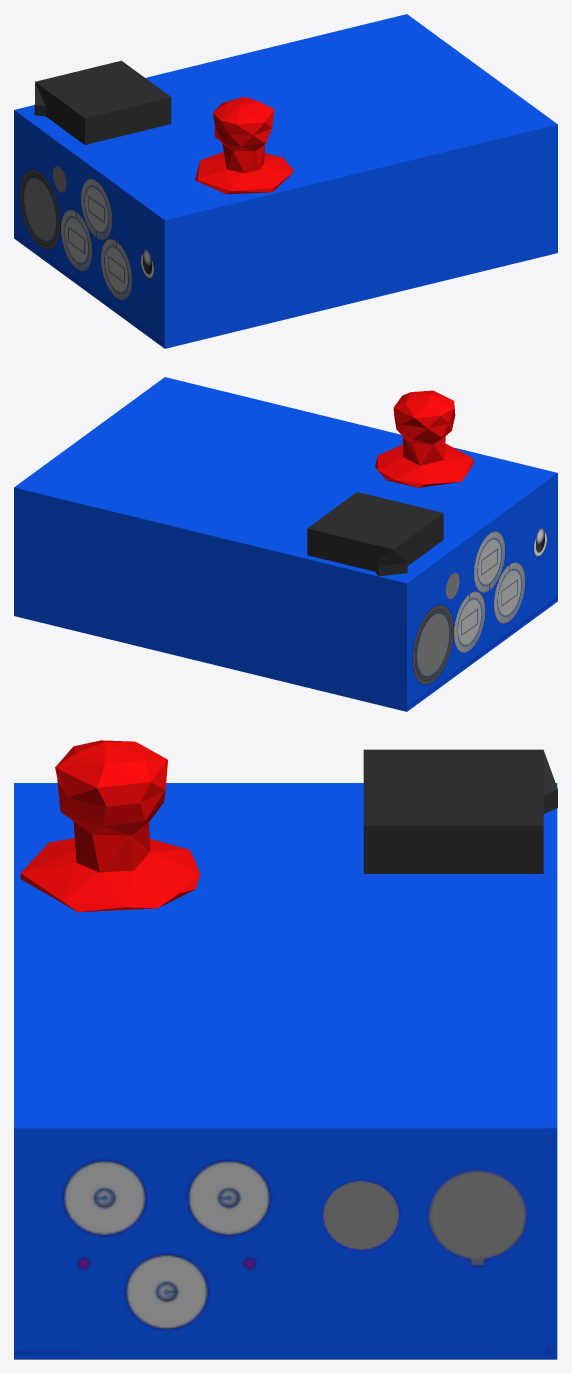
Rendered from top_box.dae.
3 renders of one model, top to bottom at view 1: azimuth 30°, elevation 25°; view 2: azimuth 150°, elevation 25°; view 3: azimuth 270°, elevation 25°, orthographic. The views are drawn at different scales.
Visible parts, largest first — view 1: Top_Box; view 2: Top_Box; view 3: Top_Box.
Part boxes in pixels (x1,y1,x2,y2): Top_Box: (14,14,557,348); Top_Box: (14,377,557,711); Top_Box: (14,740,557,1359).
Size of the model in its own units: 0.2 by 0.1331 by 0.0976.
Materials: 1 (1 with a texture image).
